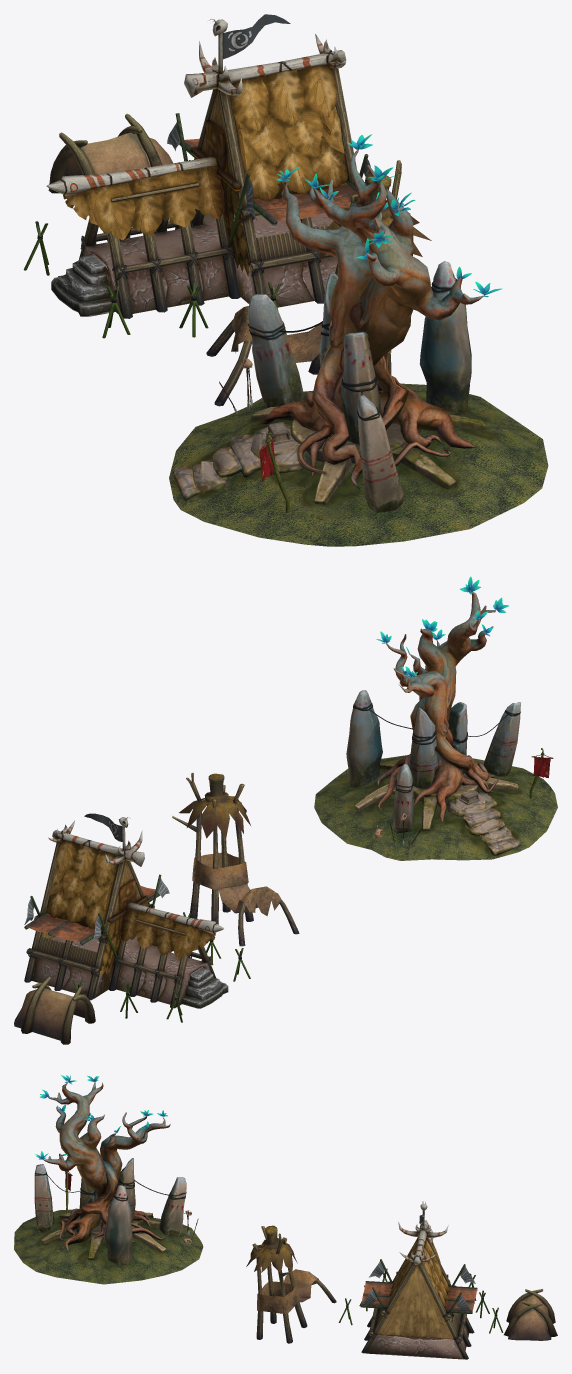
Rendered from constructions2.glb.
3 renders of one model, top to bottom at view 1: azimuth 30°, elevation 25°; view 2: azimuth 150°, elevation 25°; view 3: azimuth 270°, elevation 25°, orthographic. The views are drawn at different scales.
Visible parts, largest first — view 1: TreeAltar, NhaHop, house6, house10; view 2: TreeAltar, NhaHop, house10, house6; view 3: TreeAltar, NhaHop, house10, house6.
Part boxes in pixels (bbox=[...]): TreeAltar: bbox=[169, 134, 548, 546]; NhaHop: bbox=[23, 14, 370, 338]; house6: bbox=[48, 113, 172, 193]; house10: bbox=[206, 160, 431, 406]; TreeAltar: bbox=[314, 576, 557, 860]; NhaHop: bbox=[24, 813, 250, 1022]; house10: bbox=[172, 773, 299, 946]; house6: bbox=[14, 976, 95, 1044]; TreeAltar: bbox=[14, 1075, 203, 1284]; NhaHop: bbox=[338, 1201, 503, 1359]; house10: bbox=[246, 1225, 336, 1343]; house6: bbox=[504, 1289, 557, 1340].
Bounding box in the file's own units: 1714 × 1551 × 3506.
Materials: 15 (15 with a texture image).
